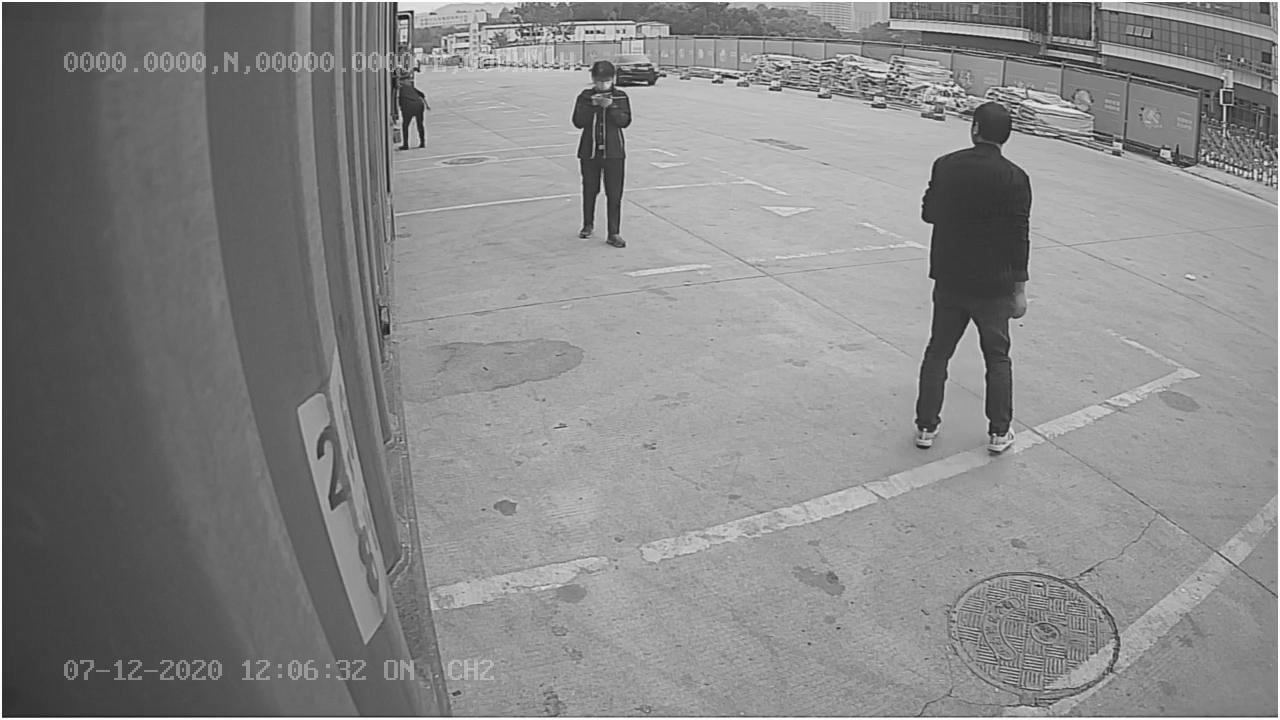person: (908, 90, 1042, 456)
